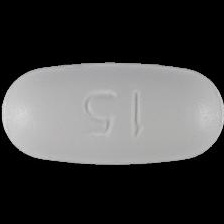0093-1015: (0, 0, 224, 224)
